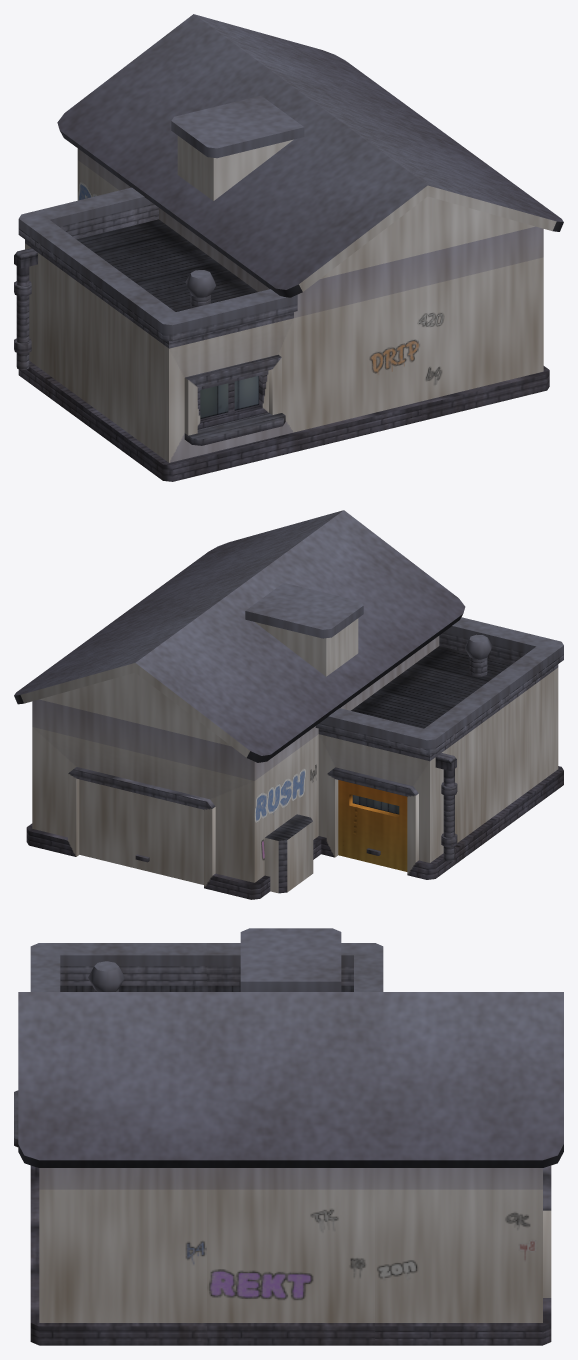
The model's file is building-h-white-scuffed.glb.
The picture shows the model from 3 angles, top to bottom: view 1: azimuth 30°, elevation 25°; view 2: azimuth 150°, elevation 25°; view 3: azimuth 270°, elevation 25°; orthographic projection. The views are drawn at different scales.
Parts seen in each view (by area): view 1: building-h; view 2: building-h; view 3: building-h.
Boxes of the visible parts, <box> form: building-h: <box>14,14,563,481</box>; building-h: <box>14,510,563,899</box>; building-h: <box>14,928,563,1345</box>.
Bounding box in the file's own units: 1.32 × 0.7335 × 1.31.
Materials: 1 (1 with a texture image).
